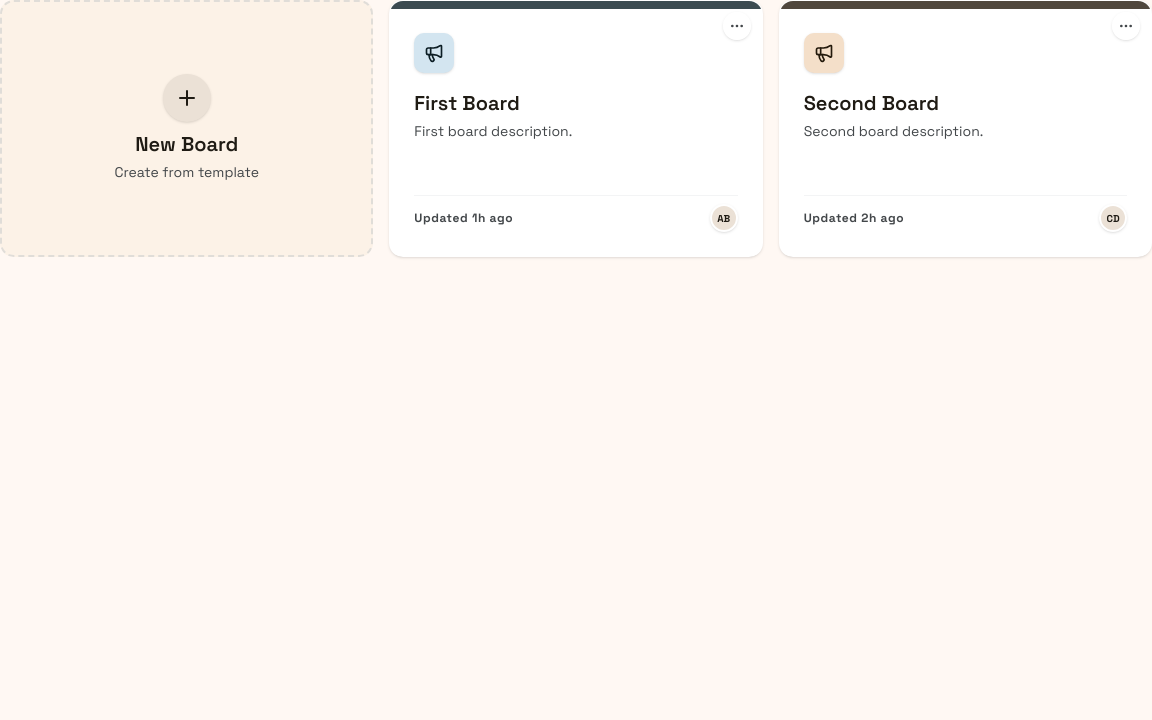
Test case: BoardGrid › creates a board via the new-board dialog
Click the button "New Board Create from template" at (187, 128), box [0,0,373,257]
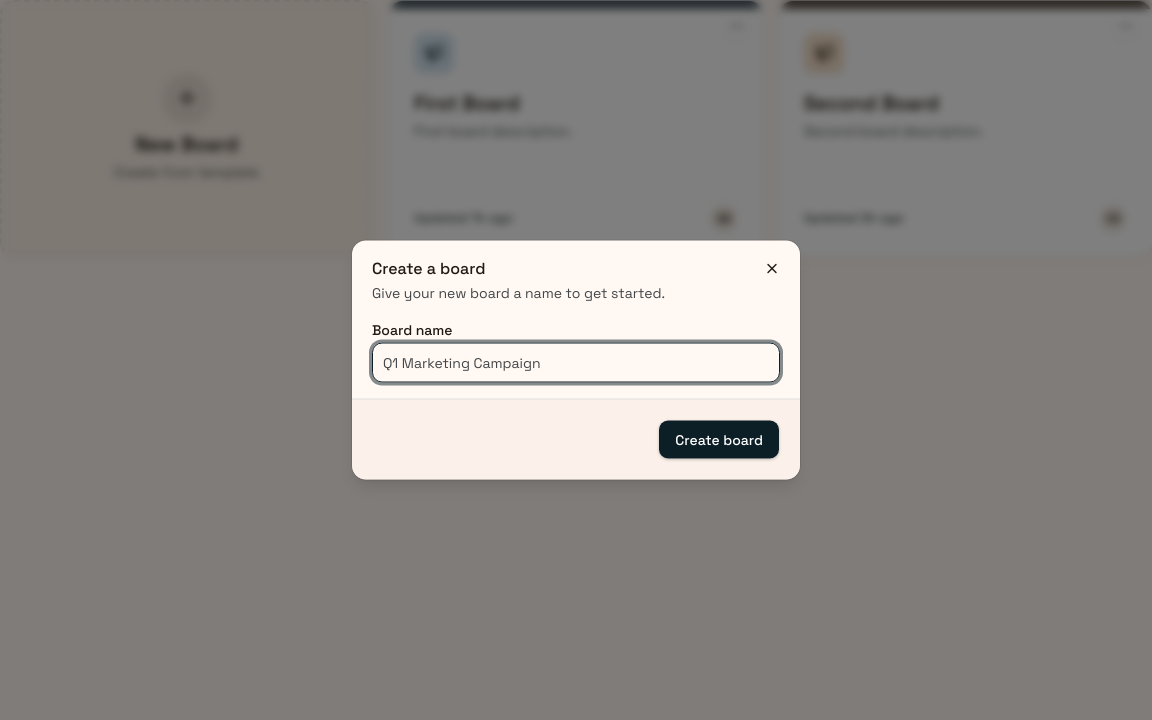
Type "Third Board" into the field labelled "Board name" at (576, 362), box [372,342,780,382]
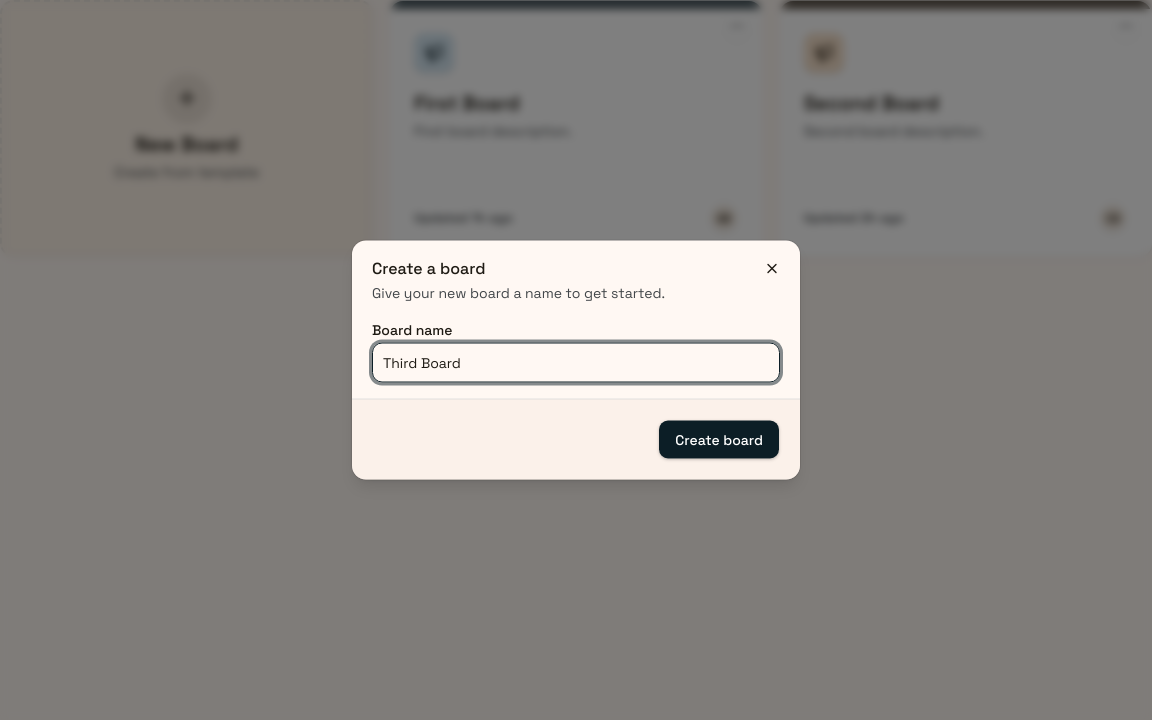
Click the button "Create board" at (719, 440), box [658,420,780,460]
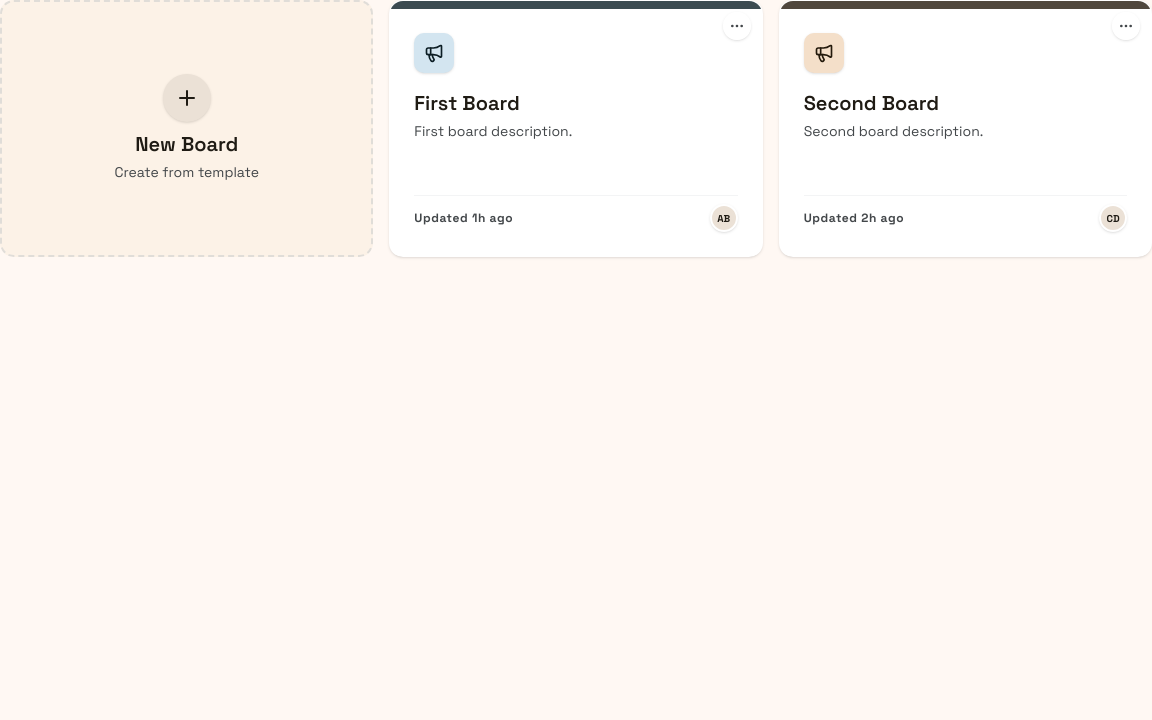
Result: the heading "Create a board" is gone
